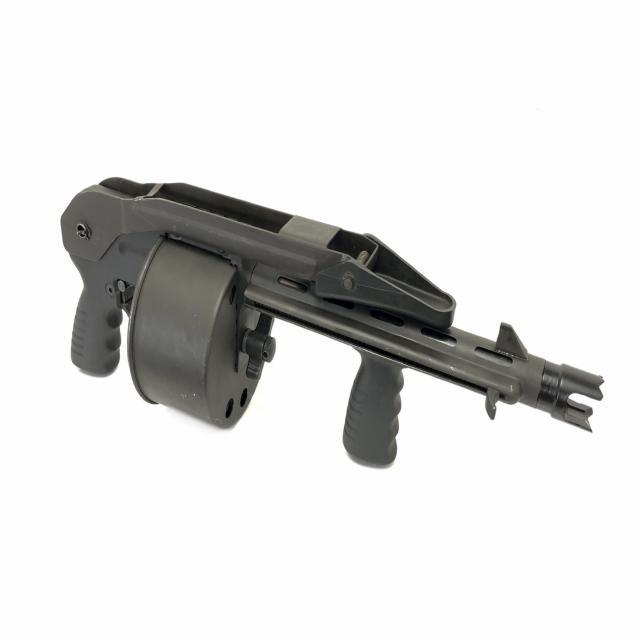shotgun: (62, 176, 602, 487)
